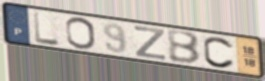9: (102, 21, 129, 55)
B: (166, 29, 202, 66)
C: (202, 35, 237, 70)
L: (32, 10, 62, 47)
O: (64, 16, 98, 51)
Z: (133, 24, 167, 61)
